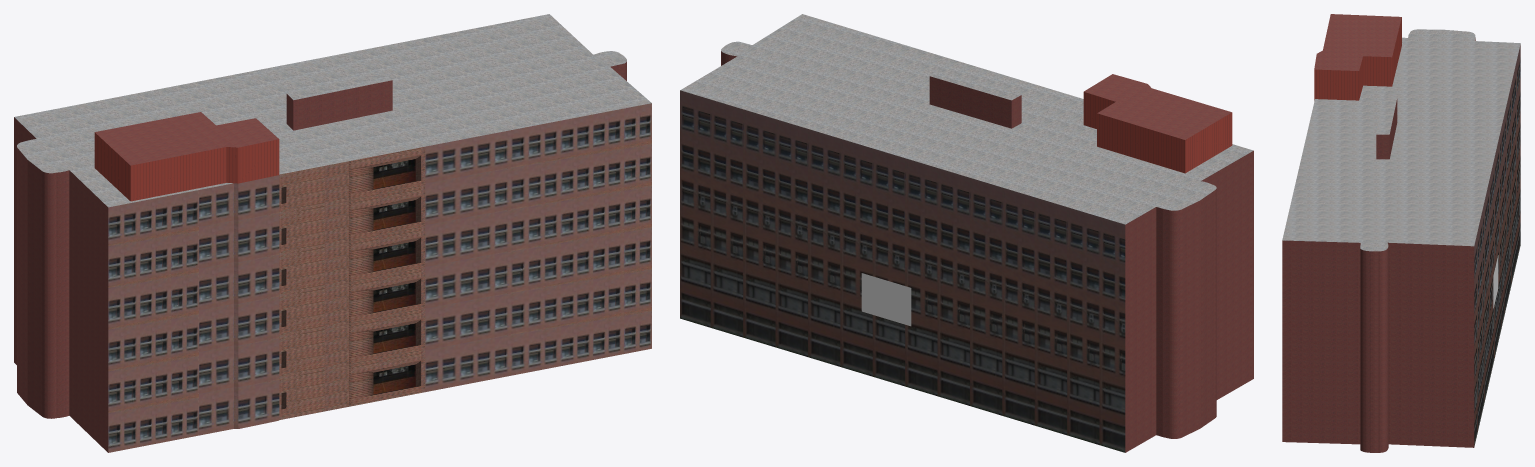
Rendered from lhsydl.gltf.
The picture shows the model from 3 angles, left to right: view 1: azimuth 30°, elevation 25°; view 2: azimuth 150°, elevation 25°; view 3: azimuth 270°, elevation 25°; orthographic projection. The views are drawn at different scales.
Parts seen in each view (by area): view 1: lhsydl.kmz; view 2: lhsydl.kmz; view 3: lhsydl.kmz.
Boxes of the visible parts, x1=… form: lhsydl.kmz: x1=14, y1=14, x2=651, y2=452; lhsydl.kmz: x1=680, y1=14, x2=1253, y2=452; lhsydl.kmz: x1=1282, y1=14, x2=1520, y2=452.
Bounding box in the file's own units: 57.28 × 27.8 × 26.01.
Materials: 9 (7 with a texture image).
